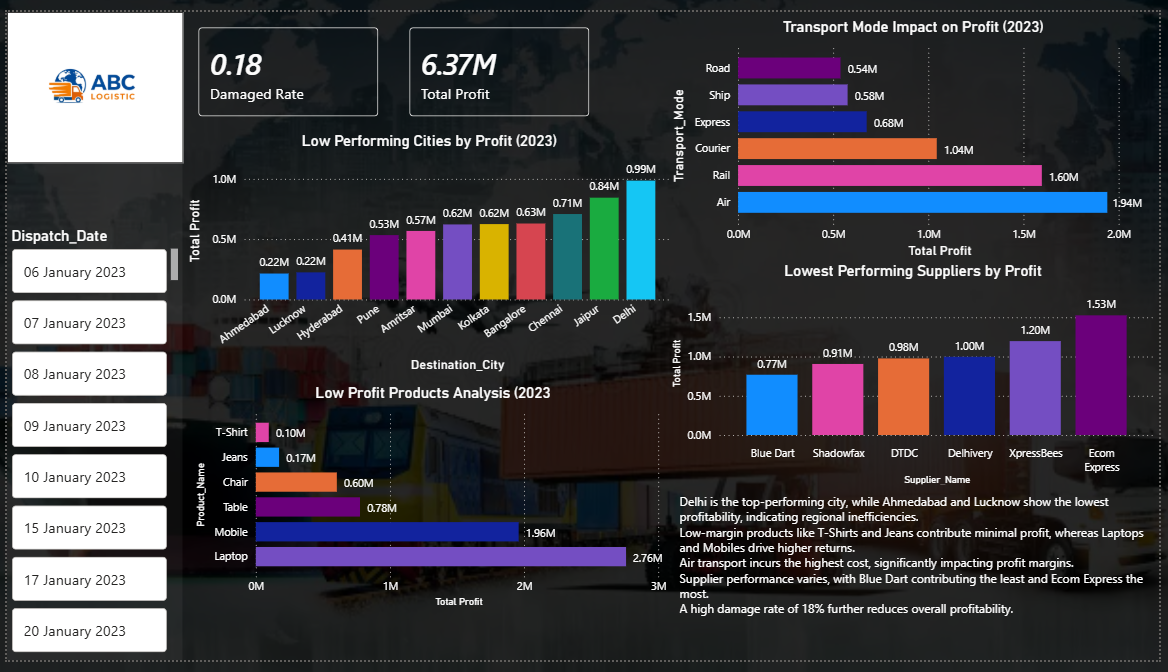

What the dashboard file says about the page in this screenshot:
{"tool":"powerbi","page":{"name":"Lose page analysis","canvas":[1280,720],"ordinal":3},"visuals":[{"type":"shape","box":[0,0,195,720],"z":0},{"type":"image","box":[0,0,195.6,167.8],"z":1000},{"type":"cardVisual","fields":{"Data":["Logistic.Damaged %"]},"box":[195.6,0,234.4,142.2],"z":2000},{"type":"barChart","title":"Low Profit Products Analysis (2023","fields":{"Y":["Logistic.Total Profit"],"Category":["Logistic.Product_Name"],"Series":["Logistic.Product_Name"]},"box":[204.4,413.3,537.8,252.2],"z":3000},{"type":"columnChart","title":"Lowest Performing Suppliers by Profit","fields":{"Category":["Logistic.Supplier_Name"],"Y":["Logistic.Total Profit"],"Series":["Logistic.Supplier_Name"]},"box":[733.3,277.8,546.7,252.2],"z":4000},{"type":"barChart","title":"Transport Mode Impact on Profit (2023)","fields":{"Y":["Logistic.Total Profit"],"Category":["Logistic.Transport_Mode"],"Series":["Logistic.Transport_Mode"]},"box":[733.3,6.7,546.7,271.1],"z":5000},{"type":"columnChart","title":"Total Profit by Destination_City and Destination_City","fields":{"Category":["Logistic.Destination_City"],"Y":["Logistic.Total Profit"],"Series":["Logistic.Destination_City"]},"box":[195.6,124.4,546.7,271.1],"z":6000},{"type":"advancedSlicerVisual","fields":{"Values":["Logistic.Dispatch_Date"]},"box":[0,570,195.6,150],"z":7000},{"type":"textbox","box":[0,210,191.1,300],"z":8000},{"type":"textbox","box":[742.2,570,537.8,150],"z":8001}]}

Visuals, with their boxes in screenshot pixels (x1, y1, x2, y2), scaled from the page's 1280x720 canvas onto the 1168x672 screenshot:
shape: {"x1": 0, "y1": 0, "x2": 178, "y2": 671}
image: {"x1": 0, "y1": 0, "x2": 178, "y2": 157}
cardVisual - Logistic.Damaged %: {"x1": 178, "y1": 0, "x2": 392, "y2": 133}
"Low Profit Products Analysis (2023" barChart: {"x1": 187, "y1": 386, "x2": 677, "y2": 621}
"Lowest Performing Suppliers by Profit" columnChart: {"x1": 669, "y1": 259, "x2": 1167, "y2": 495}
"Transport Mode Impact on Profit (2023)" barChart: {"x1": 669, "y1": 6, "x2": 1167, "y2": 259}
"Total Profit by Destination_City and Destination_City" columnChart: {"x1": 178, "y1": 116, "x2": 677, "y2": 369}
advancedSlicerVisual - Logistic.Dispatch_Date: {"x1": 0, "y1": 532, "x2": 178, "y2": 671}
textbox: {"x1": 0, "y1": 196, "x2": 174, "y2": 476}
textbox: {"x1": 677, "y1": 532, "x2": 1167, "y2": 671}
